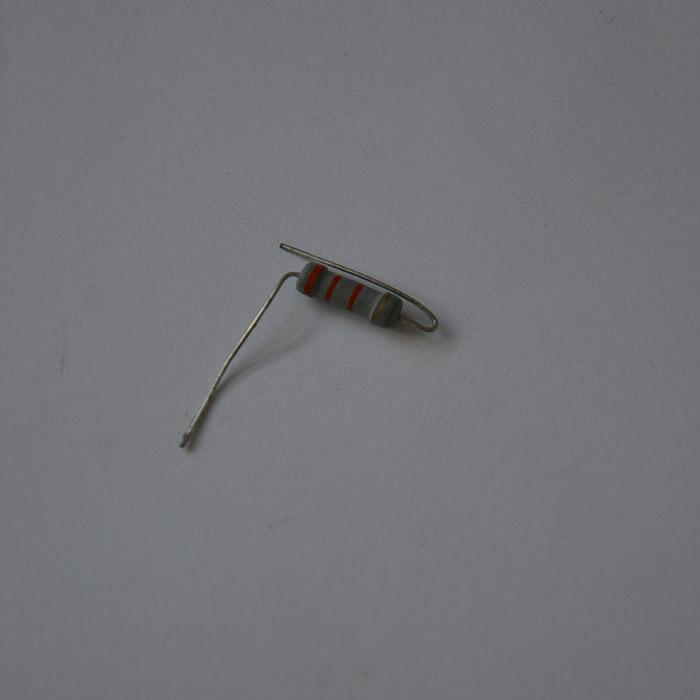resistor: (293, 258, 403, 328)
